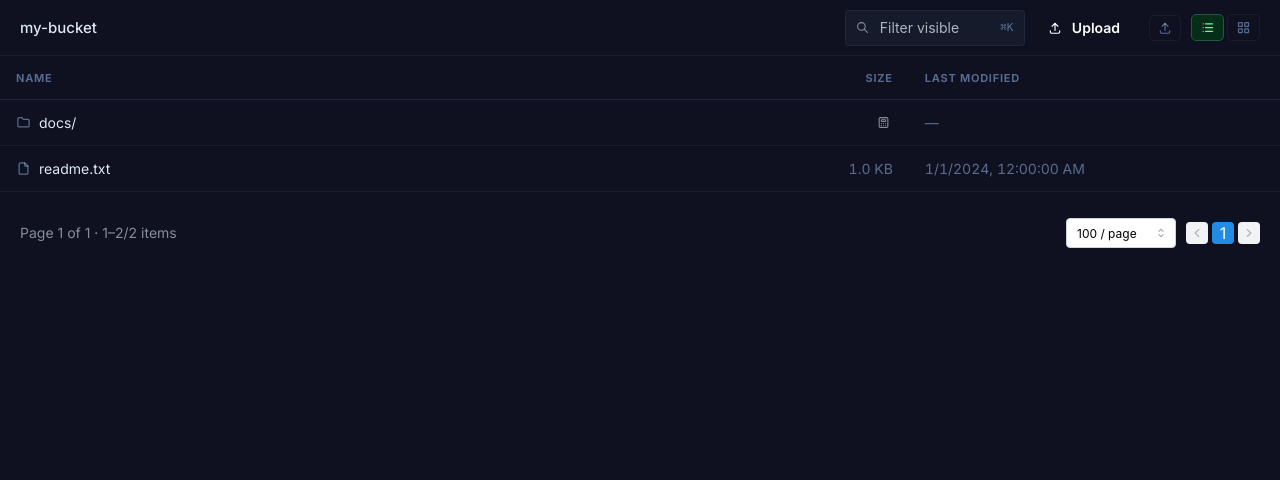
it: ObjectBrowserPage › clicking a file row opens the inspector (sets key param)
This screenshot has width=1280, height=480.
Expected: the text "readme.txt" is shown, [39,158,110,179]
Step 1. Click the button "readme.txt" → coordinates (75, 168), box [16,158,688,179]
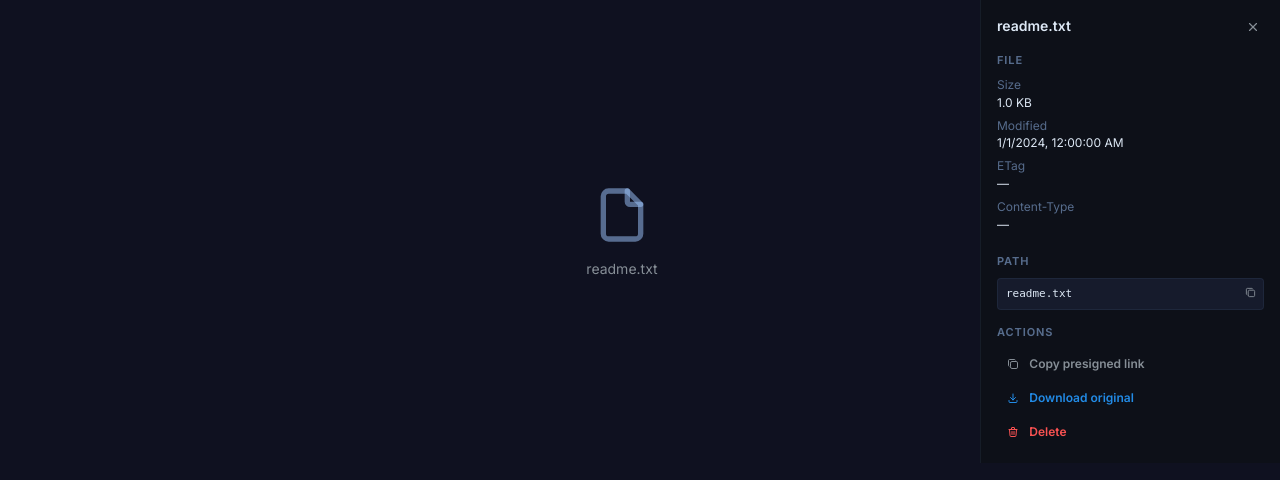
Expected: the text with test id "path-block" is shown, [1006,288,1072,300]
